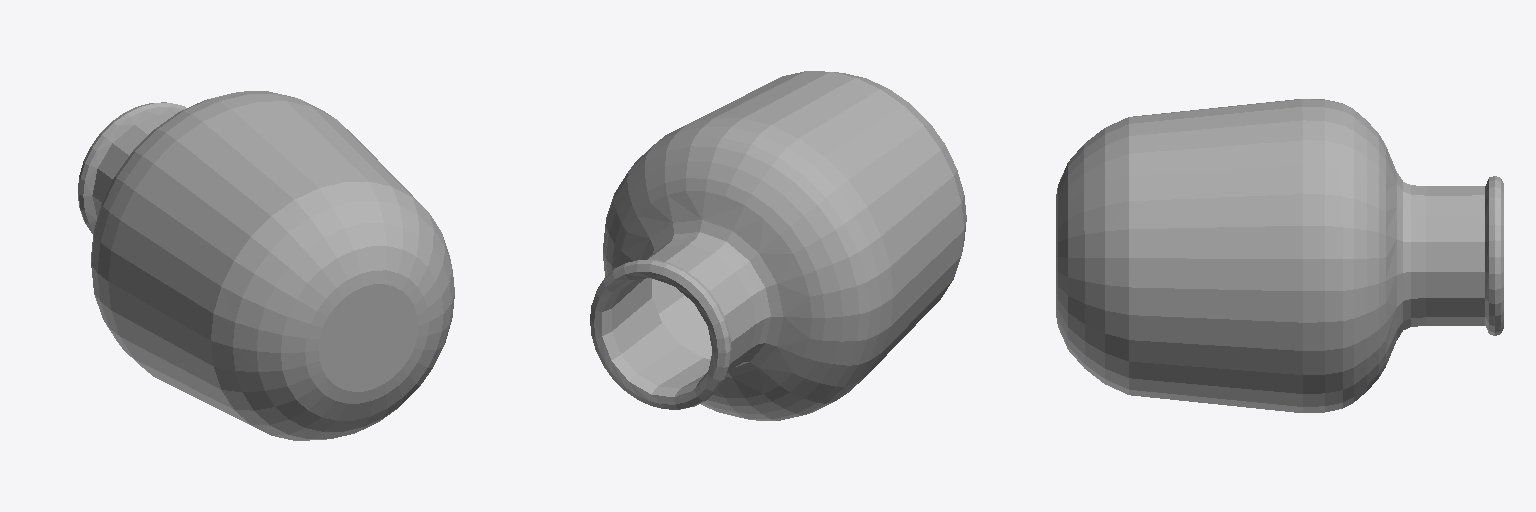
The model's file is vase.obj.
3 views of the same model, side by side, from view 1: azimuth 30°, elevation 25°; view 2: azimuth 150°, elevation 25°; view 3: azimuth 270°, elevation 25° (orthographic).
Parts seen in each view (by area): view 1: TableSet_Vase_Scene; view 2: TableSet_Vase_Scene; view 3: TableSet_Vase_Scene.
Part boxes in pixels (bbox=[...]): TableSet_Vase_Scene: bbox=[78, 91, 454, 440]; TableSet_Vase_Scene: bbox=[590, 71, 966, 420]; TableSet_Vase_Scene: bbox=[1056, 99, 1503, 412].
Size of the model in its own units: 0.139 by 0.1384 by 0.1976.